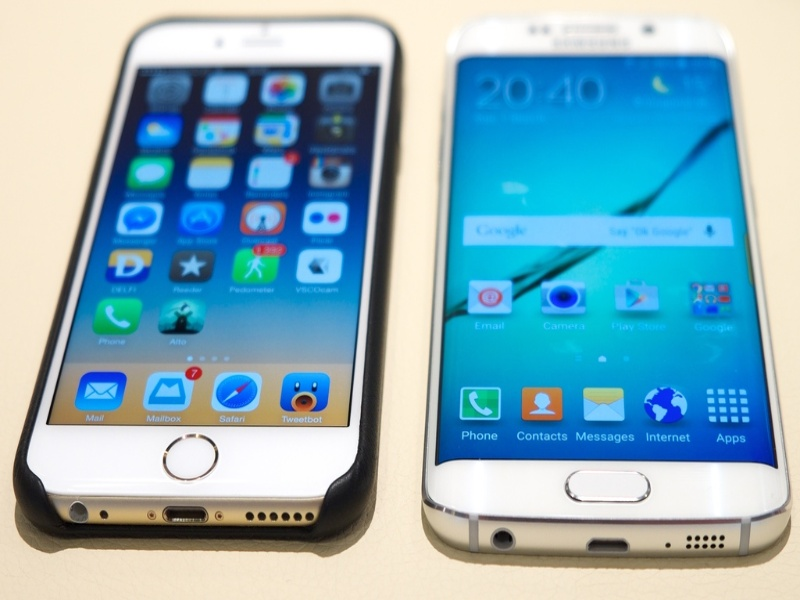Mobile Phone: (420, 10, 800, 570), (34, 11, 407, 553)
